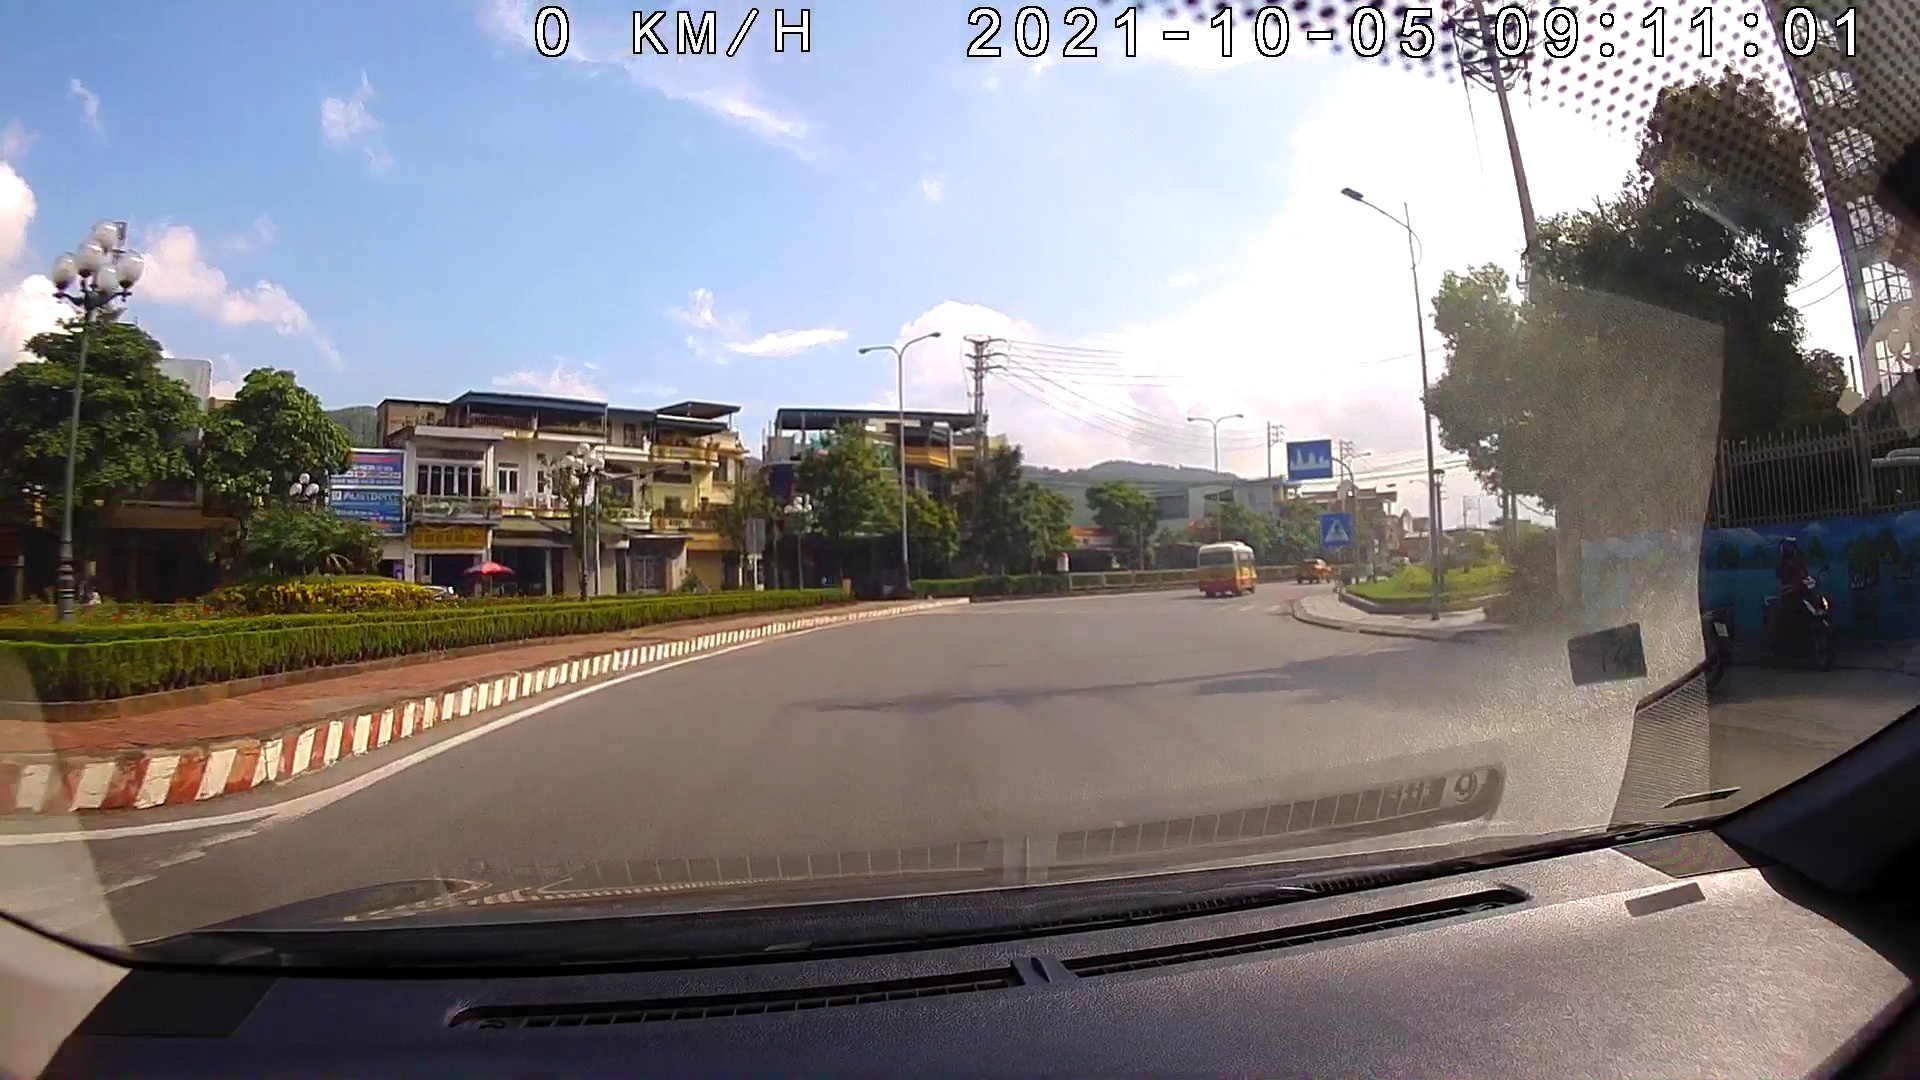Bien khac: (1284, 439, 1332, 480)
Nguoi di bo: (1319, 512, 1349, 545)
